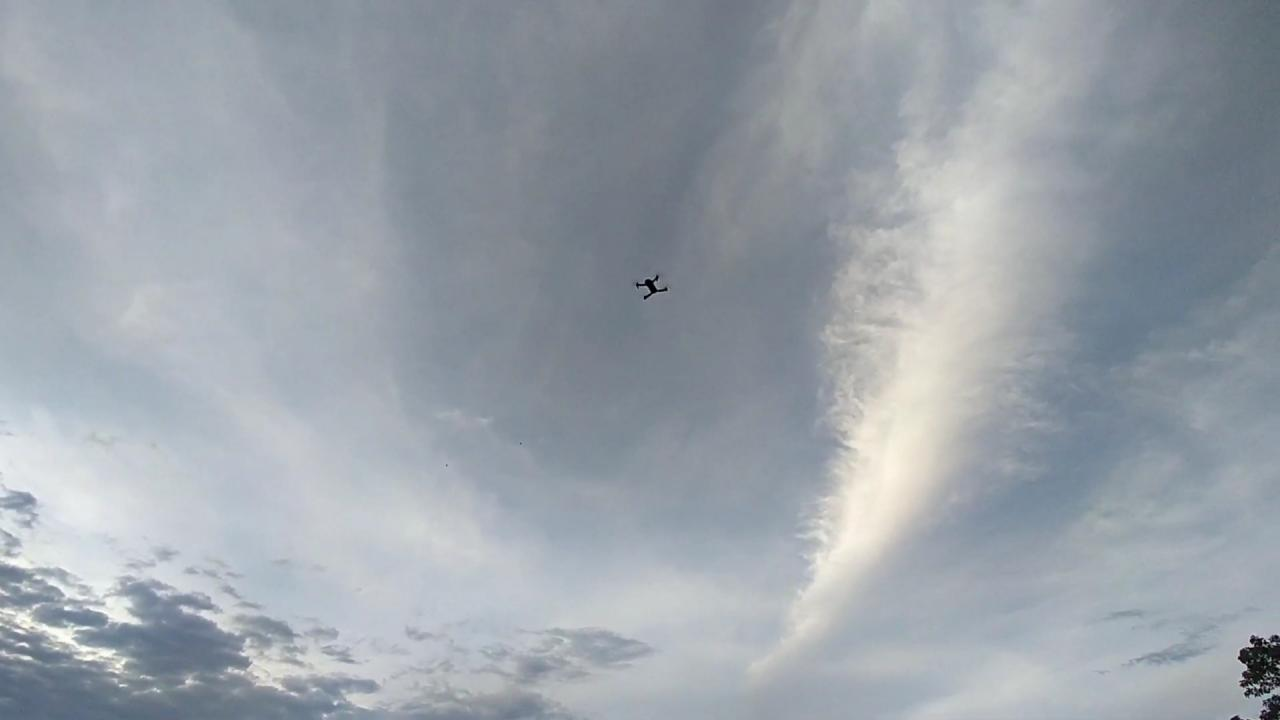Drone: (624, 263, 680, 313)
